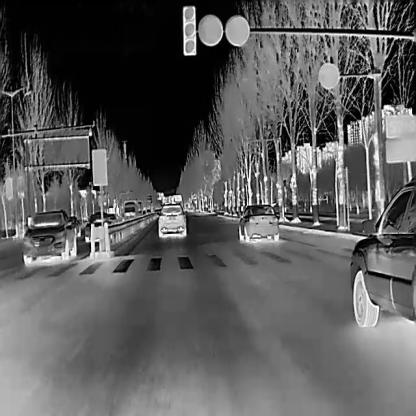car: (349, 173, 415, 328), (21, 206, 77, 264), (237, 202, 280, 242), (155, 201, 186, 237), (84, 210, 111, 243)
truck: (124, 200, 138, 223)
